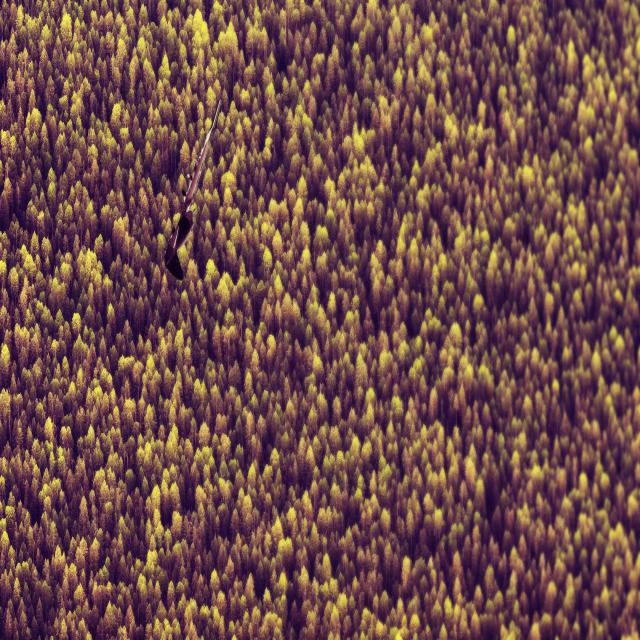airplane: (163, 98, 222, 281)
